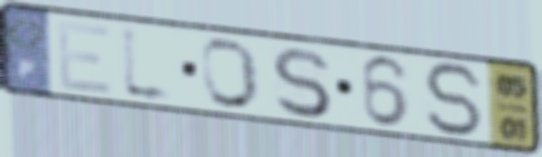6: (358, 52, 414, 131)
E: (53, 18, 116, 98)
L: (119, 20, 179, 110)
O: (198, 36, 264, 112)
S: (419, 59, 489, 140), (267, 44, 335, 121)
